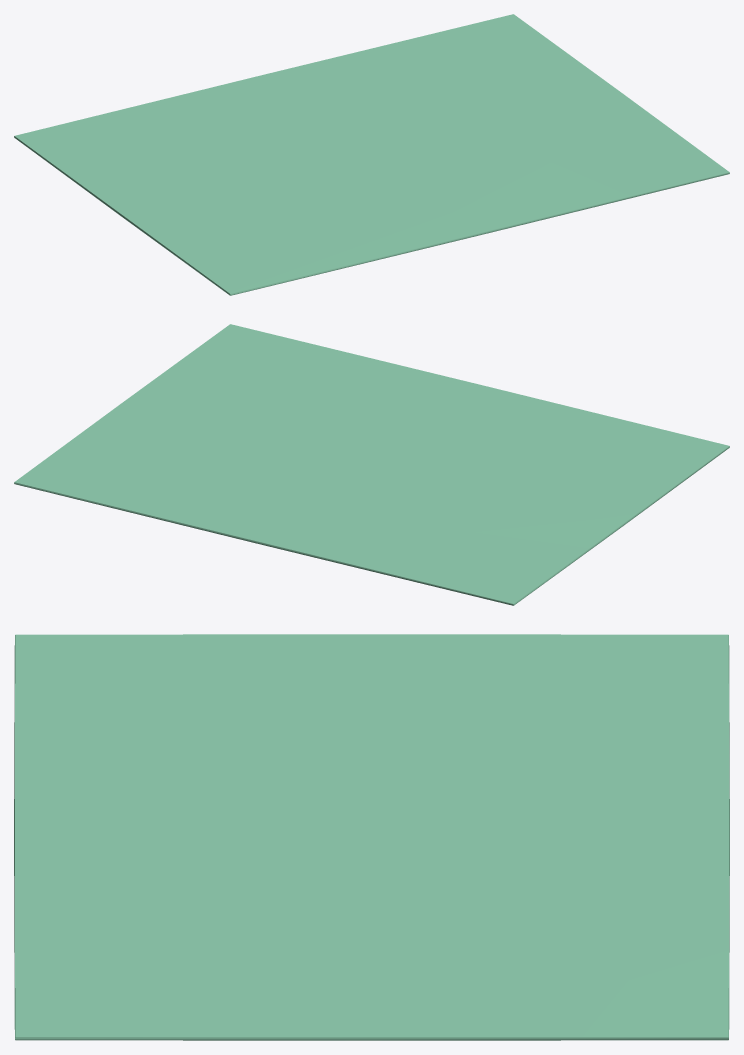
The model's file is rug-mint.glb.
3 views of the same model, one above another, from view 1: azimuth 30°, elevation 25°; view 2: azimuth 150°, elevation 25°; view 3: azimuth 270°, elevation 25° (orthographic). The views are drawn at different scales.
Parts seen in each view (by area): view 1: part; view 2: part; view 3: part.
Boxes of the visible parts, <box> form: part: <box>14,14,729,295</box>; part: <box>14,324,729,605</box>; part: <box>14,634,729,1040</box>.
Size of the model in its own units: 4 by 0.025 by 3.
1 material, 1 textured.
